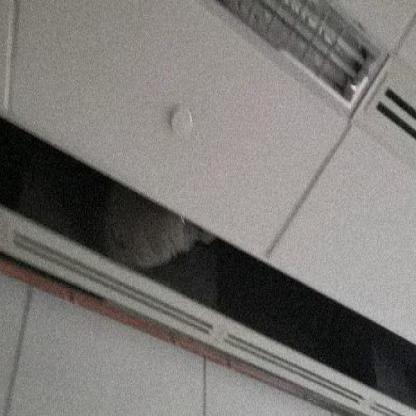light_off: (184, 4, 395, 115)
